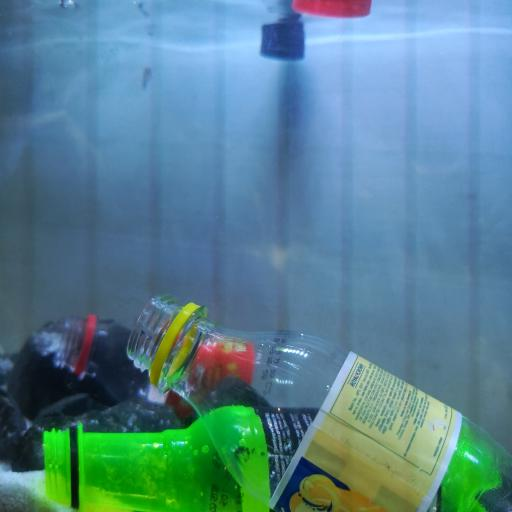bottle_cap: (294, 0, 371, 18), (260, 35, 306, 61)
plastic_bottle: (125, 294, 512, 512), (42, 405, 505, 512), (54, 312, 320, 412)
